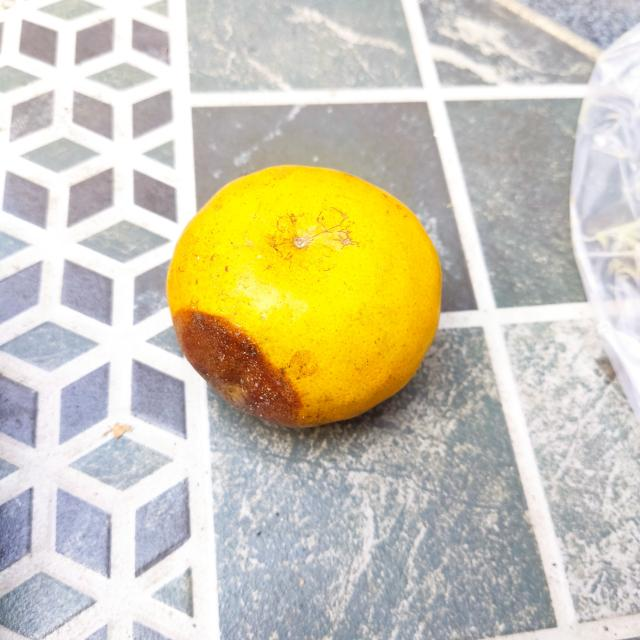orange: (168, 163, 442, 430)
